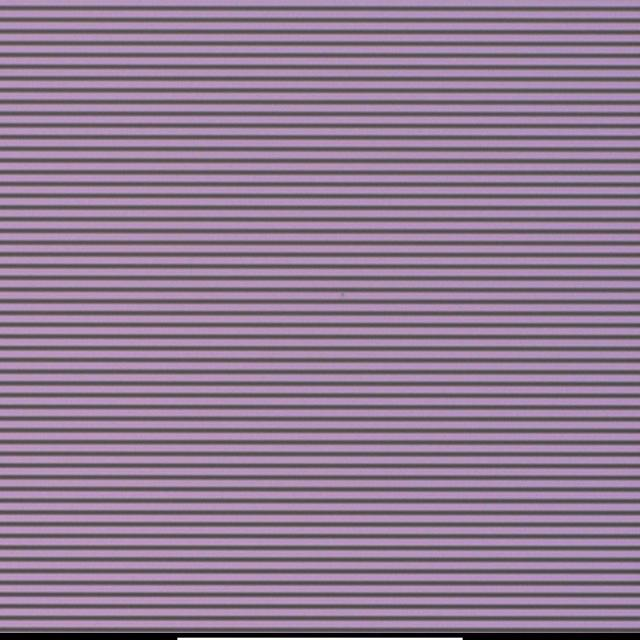nonvisual: (336, 286, 350, 302)
